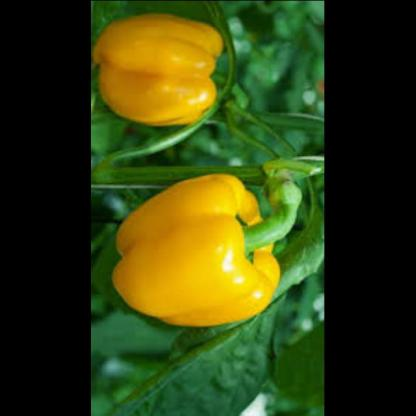bell pepper: (109, 173, 293, 328), (94, 10, 229, 132)
